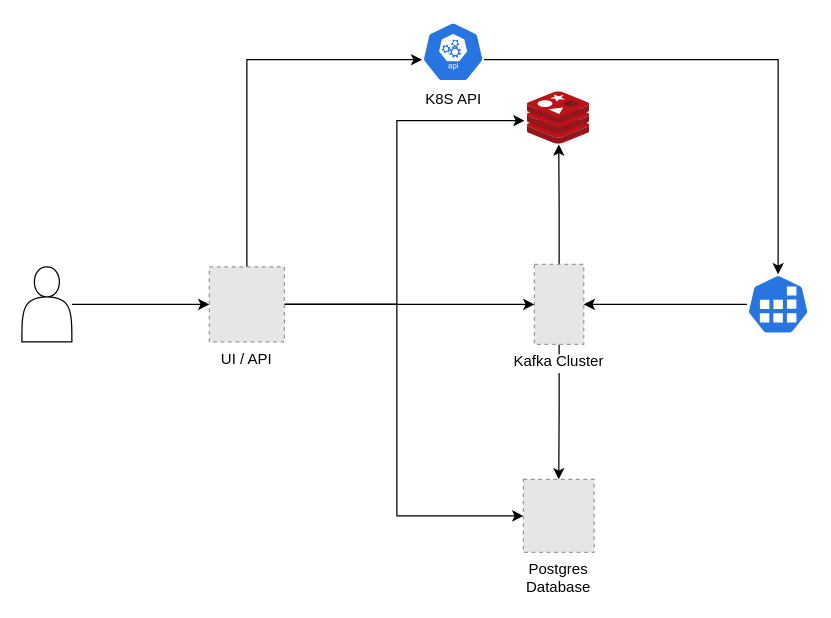
Image size: 831x618. Some labels were removed from this diagram. Grey dashed boxes stand in for pictures. The shapes that lost their labels are listed below. From the top down, each one's centre as x and y in pixels, then its label:
At [558,117]: "Redis".
At [777,303]: "Job".
